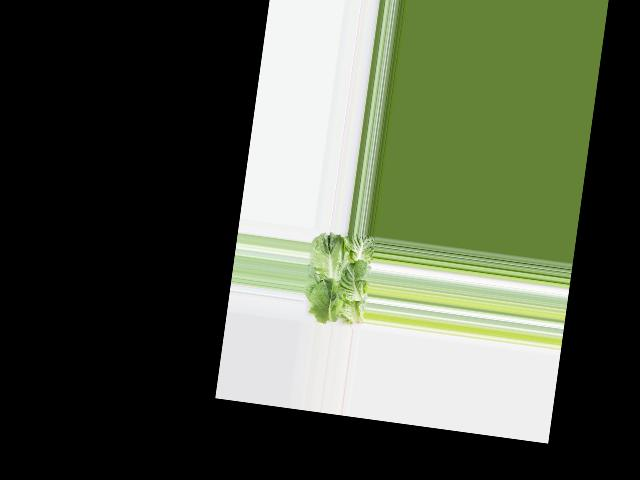lettuce: (303, 230, 376, 326)
